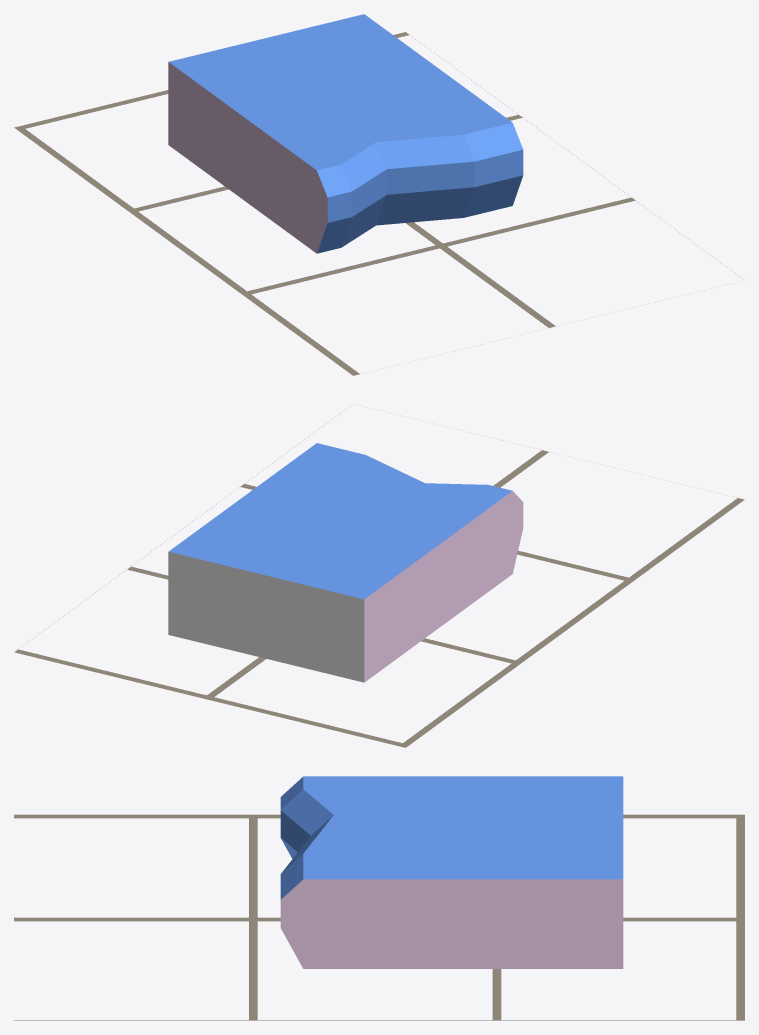
Rendered from Iceberg_Straight_1x2_1.glb.
3 renders of one model, top to bottom at view 1: azimuth 30°, elevation 25°; view 2: azimuth 150°, elevation 25°; view 3: azimuth 270°, elevation 25°, orthographic. The views are drawn at different scales.
Parts seen in each view (by area): view 1: Iceberg_Straight_1x2_1, Floor; view 2: Iceberg_Straight_1x2_1, Floor; view 3: Iceberg_Straight_1x2_1, Floor.
Part boxes in pixels (x1=…): Iceberg_Straight_1x2_1: x1=168, y1=14, x2=523, y2=253; Floor: x1=14, y1=32, x2=735, y2=375; Iceberg_Straight_1x2_1: x1=168, y1=443, x2=523, y2=682; Floor: x1=14, y1=404, x2=744, y2=747; Iceberg_Straight_1x2_1: x1=280, y1=776, x2=623, y2=968; Floor: x1=14, y1=814, x2=744, y2=1020.
Size of the model in its own units: 200 by 40.63 by 300.
4 materials, 1 textured.
